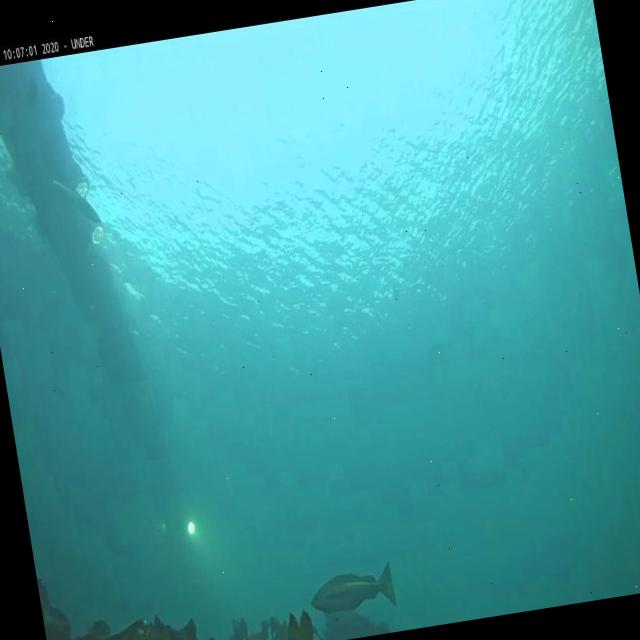fish: (306, 558, 396, 616), (49, 170, 103, 232)
